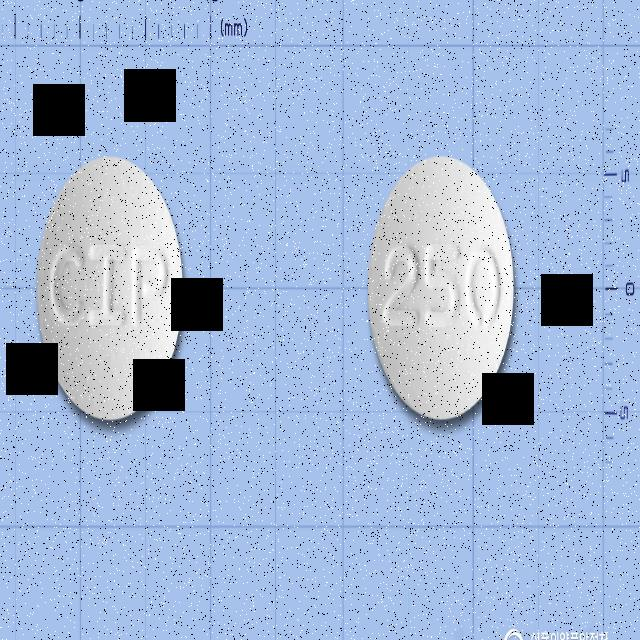Ciprocin - 259mg: (363, 146, 522, 433), (34, 151, 190, 427)
